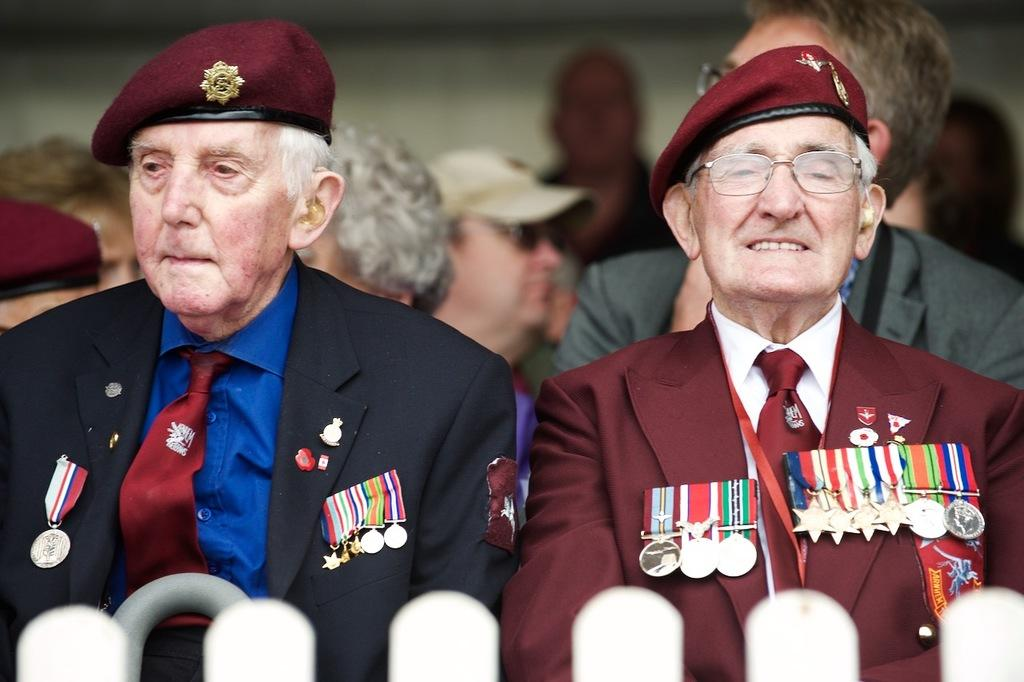Hat: (422, 144, 596, 218)
